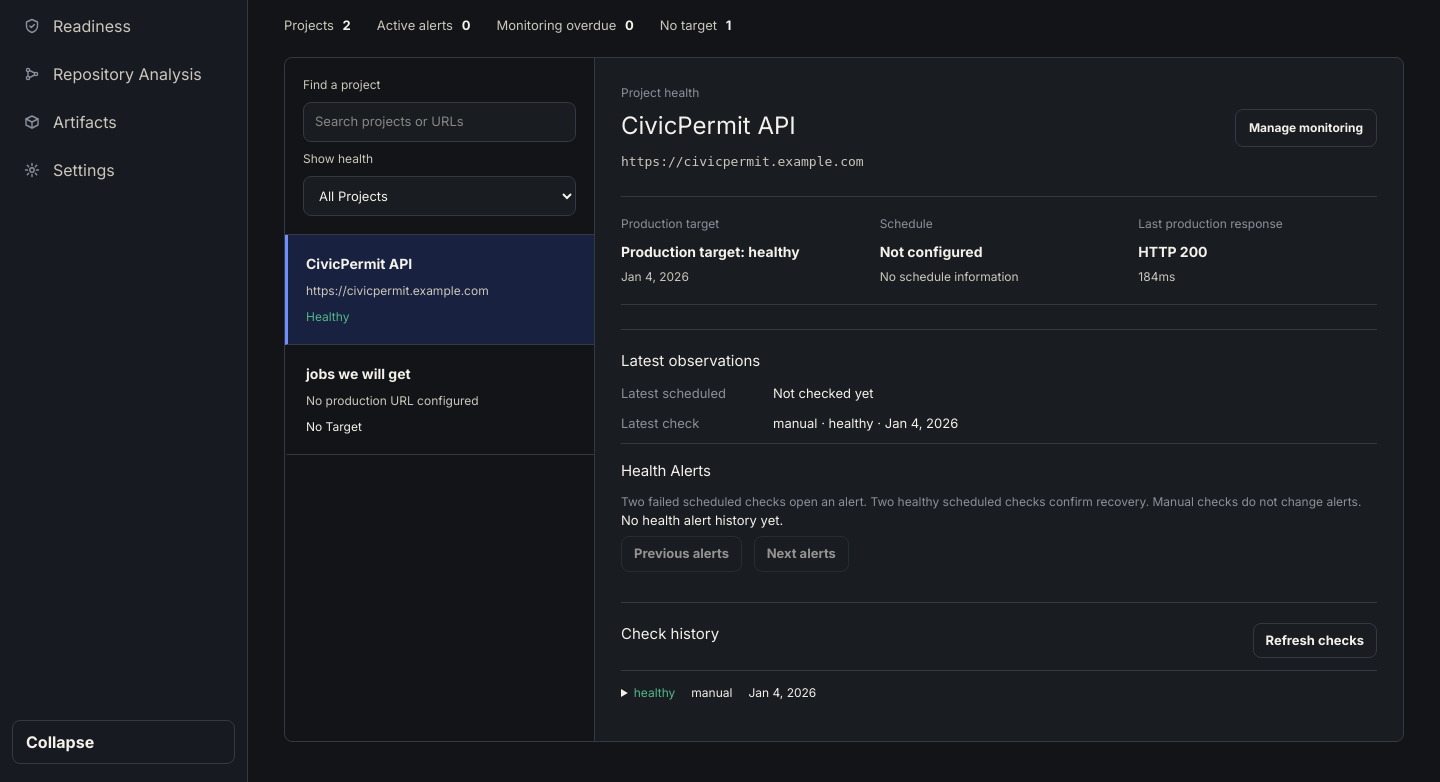
it: loads only the selected project's history and exposes response evidence on demand
(page scrolled)
Expected: the text "ok" is not shown
Click the text "healthy" below "Check history" at (654, 693), box [634,684,675,702]
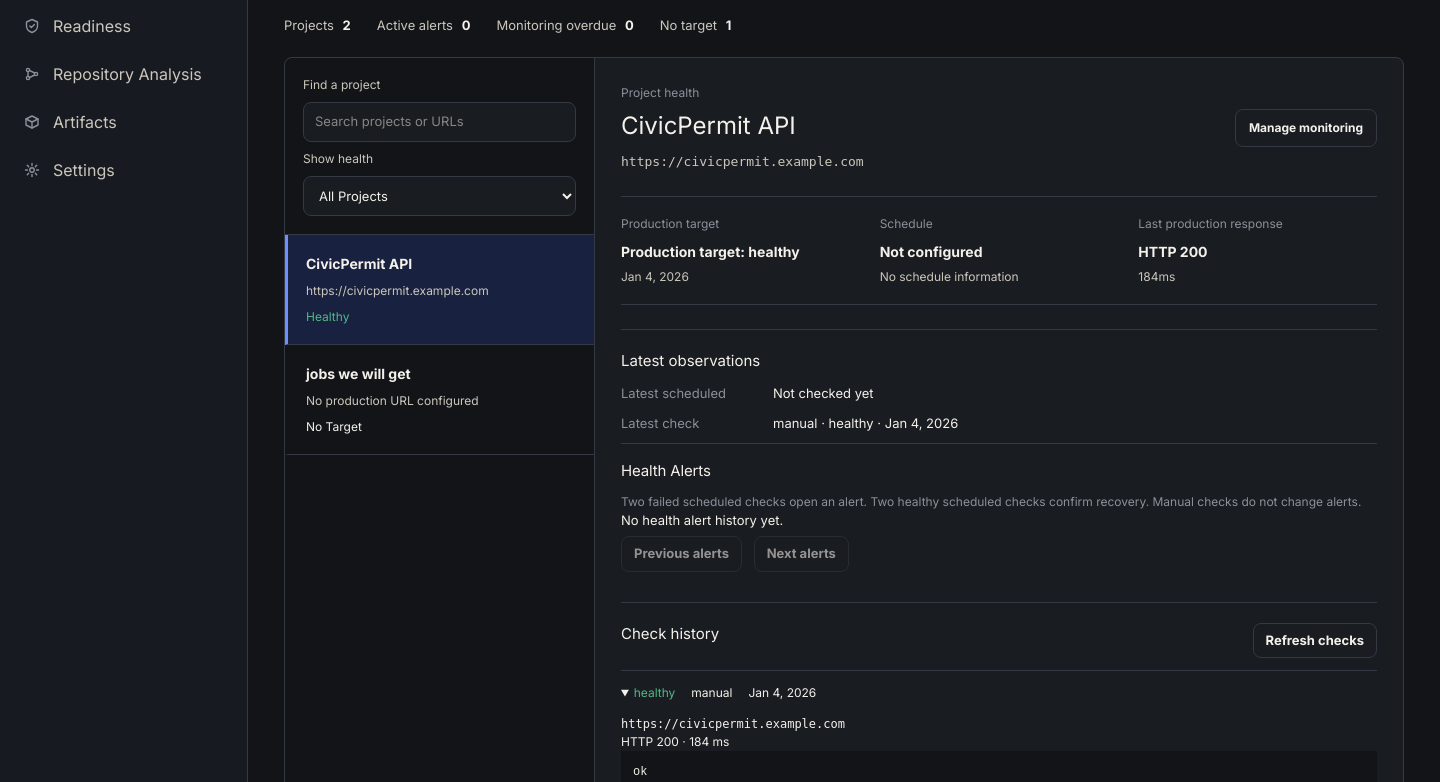
Click the button "jobs we will get No production URL configured No target" at (440, 400), box [285,345,594,455]
(page scrolled)
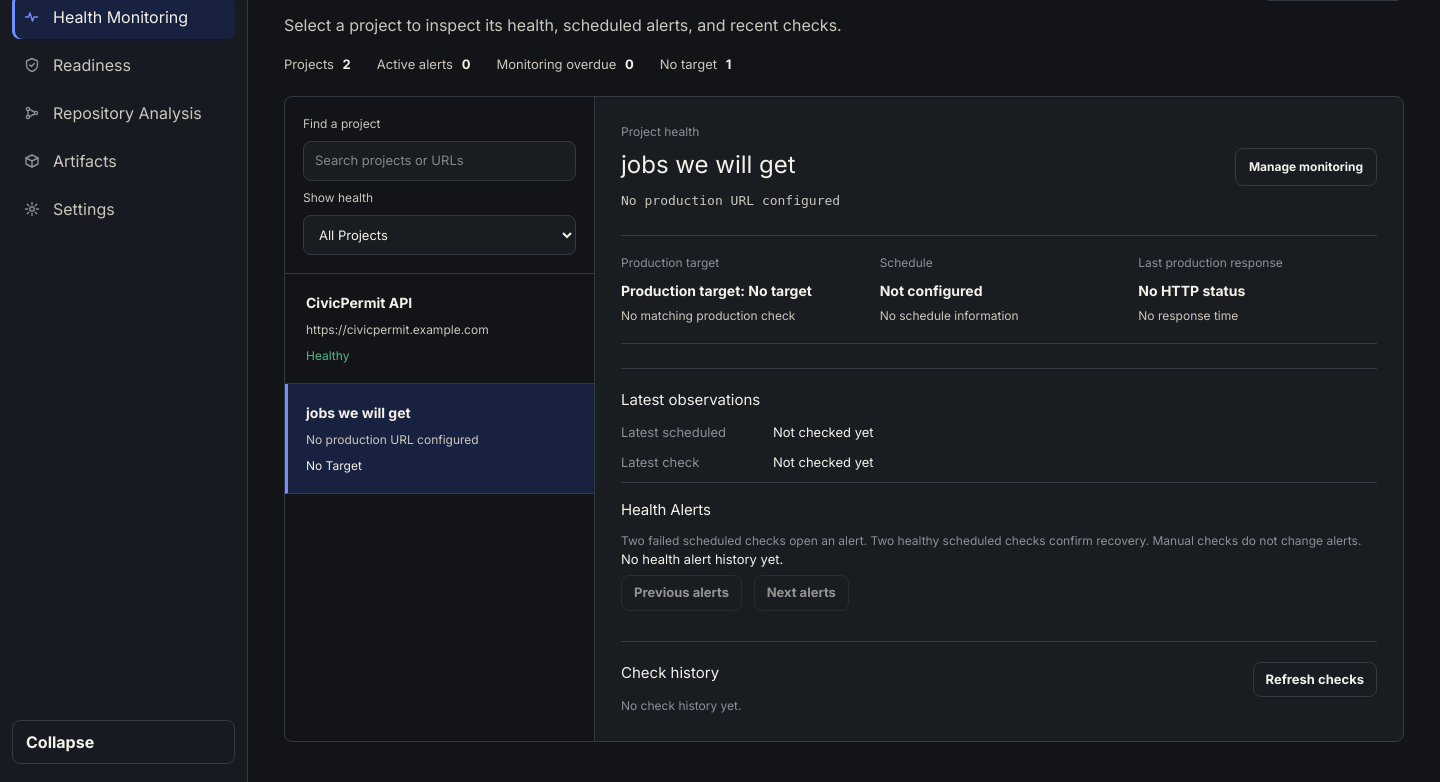
Expected: the text "No check history yet." is shown, [621,698,741,713]
